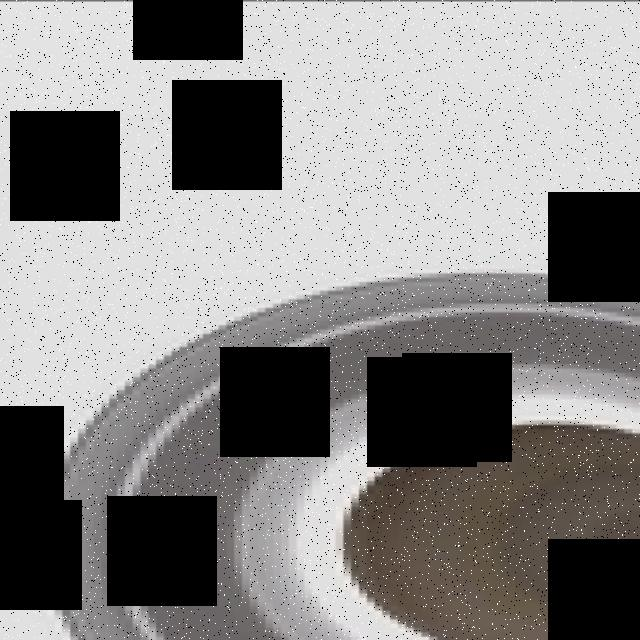Saturn: (31, 268, 640, 640)
